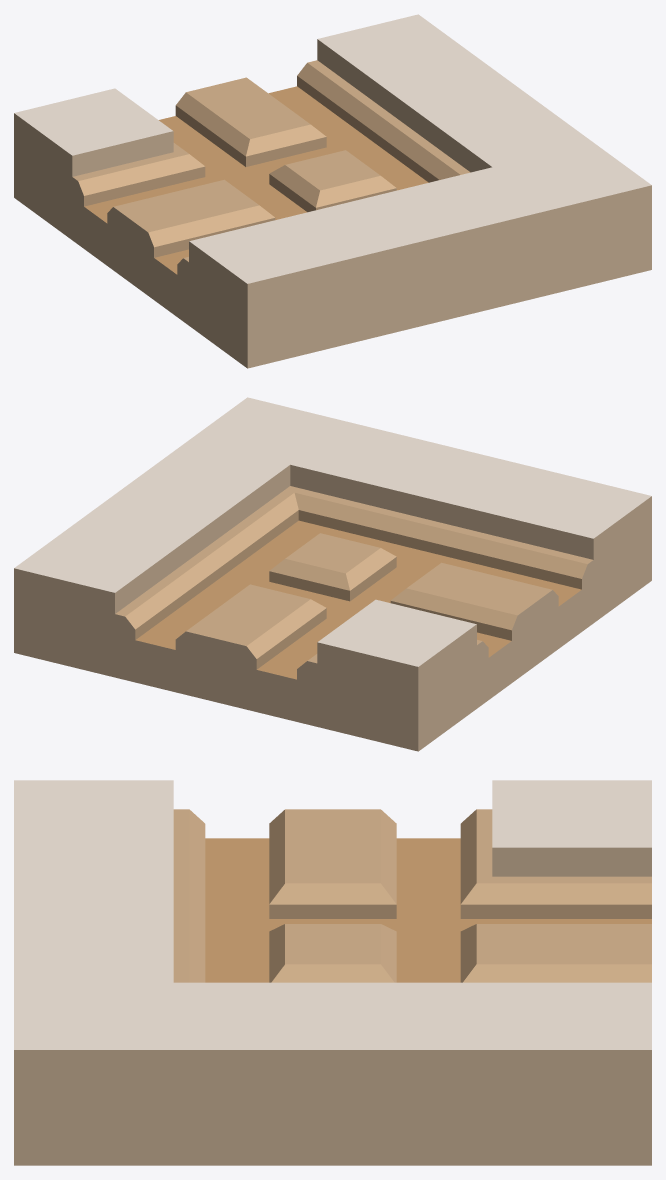
File: Puzzle_Track_Standard_Corner.fbx
The picture shows the model from 3 angles, top to bottom: view 1: azimuth 30°, elevation 25°; view 2: azimuth 150°, elevation 25°; view 3: azimuth 270°, elevation 25°; orthographic projection. The views are drawn at different scales.
Visible parts, largest first — view 1: Sandstone_Trim.Sandstone_Trim.Sandstone_Trim.Sandstone_Trim., Sandstone_Floor.Sandstone_Floor, Sandstone_4.Sandstone_4.Sandstone_4, Sandstone_5; view 2: Sandstone_Trim.Sandstone_Trim.Sandstone_Trim.Sandstone_Trim., Sandstone_Floor.Sandstone_Floor, Sandstone_4.Sandstone_4.Sandstone_4, Sandstone_5; view 3: Sandstone_Floor.Sandstone_Floor, Sandstone_Trim.Sandstone_Trim.Sandstone_Trim.Sandstone_Trim., Sandstone_4.Sandstone_4.Sandstone_4, Sandstone_5.
Part boxes in pixels (x1,y1,x2,y2): Sandstone_Trim.Sandstone_Trim.Sandstone_Trim.Sandstone_Trim.: (14, 39, 651, 368); Sandstone_Floor.Sandstone_Floor: (14, 14, 651, 283); Sandstone_4.Sandstone_4.Sandstone_4: (73, 60, 470, 261); Sandstone_5: (84, 86, 428, 274); Sandstone_Trim.Sandstone_Trim.Sandstone_Trim.Sandstone_Trim.: (14, 464, 651, 751); Sandstone_Floor.Sandstone_Floor: (14, 397, 651, 666); Sandstone_4.Sandstone_4.Sandstone_4: (115, 486, 592, 669); Sandstone_5: (135, 520, 581, 679); Sandstone_Floor.Sandstone_Floor: (14, 780, 651, 1049); Sandstone_Trim.Sandstone_Trim.Sandstone_Trim.Sandstone_Trim.: (14, 847, 651, 1165); Sandstone_4.Sandstone_4.Sandstone_4: (173, 809, 651, 982); Sandstone_5: (205, 838, 651, 982).
Size of the model in its own units: 1 by 0.2 by 1.
